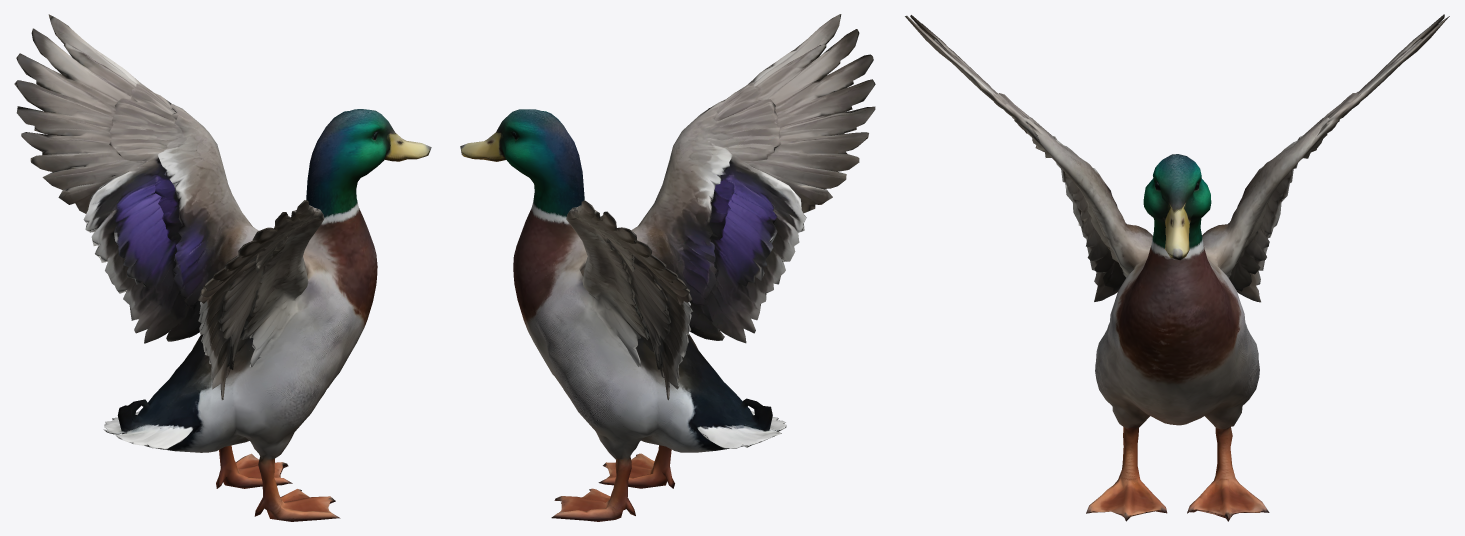
The picture shows the model from 3 angles, left to right: view 1: azimuth 30°, elevation 25°; view 2: azimuth 150°, elevation 25°; view 3: azimuth 270°, elevation 25°; orthographic projection. The views are drawn at different scales.
Parts seen in each view (by area): view 1: tripo_node_511d4b27-7c90-4bd8-943b-e829cf1abf59; view 2: tripo_node_511d4b27-7c90-4bd8-943b-e829cf1abf59; view 3: tripo_node_511d4b27-7c90-4bd8-943b-e829cf1abf59.
Boxes of the visible parts, left/top/right/bottom form: tripo_node_511d4b27-7c90-4bd8-943b-e829cf1abf59: left=14, top=14, right=431, bottom=521; tripo_node_511d4b27-7c90-4bd8-943b-e829cf1abf59: left=460, top=14, right=875, bottom=521; tripo_node_511d4b27-7c90-4bd8-943b-e829cf1abf59: left=905, top=14, right=1449, bottom=521.
Bounding box in the file's own units: 0.7313 × 0.8902 × 1.
Materials: 1 (1 with a texture image).
